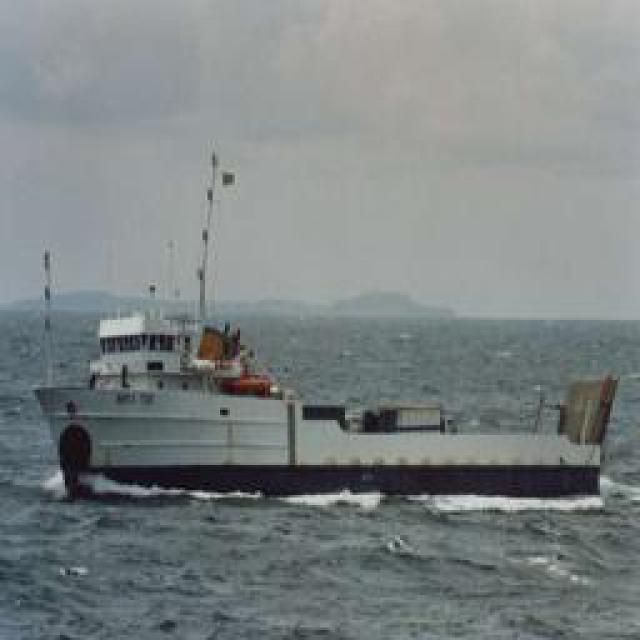Ship: (25, 310, 615, 500)
